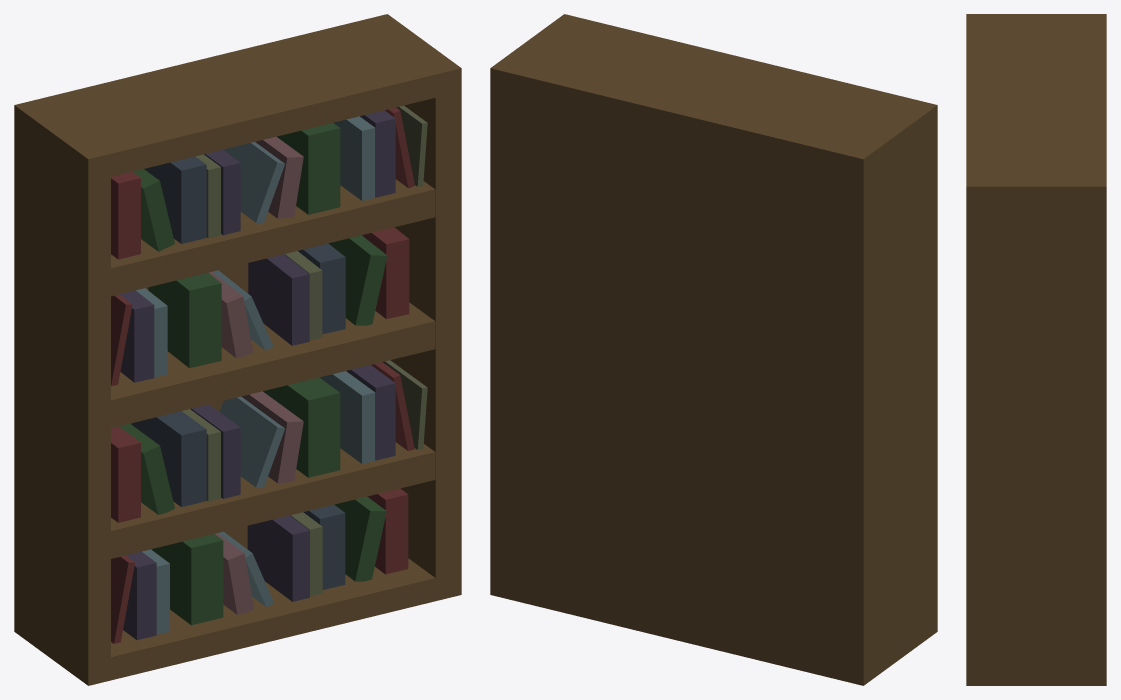
File: bookshelf.fbx
The picture shows the model from 3 angles, left to right: view 1: azimuth 30°, elevation 25°; view 2: azimuth 150°, elevation 25°; view 3: azimuth 270°, elevation 25°; orthographic projection. The views are drawn at different scales.
Parts seen in each view (by area): view 1: bookshelf, Cube_1_5, inside, Cube_5_5, Cube_2_6, Cube_5_3, Cube_5, Cube_5_2, Cube_4_3, Cube_2_2, Cube_4, Cube_5_4 (+39 smaller); view 2: bookshelf; view 3: bookshelf.
Boxes of the visible parts, left/top/right/bottom form: bookshelf: left=14, top=14, right=461, bottom=685; Cube_1_5: left=111, top=302, right=435, bottom=428; inside: left=111, top=98, right=435, bottom=657; Cube_5_5: left=111, top=179, right=435, bottom=296; Cube_2_6: left=111, top=442, right=435, bottom=558; Cube_5_3: left=148, top=273, right=221, bottom=368; Cube_5: left=151, top=534, right=223, bottom=625; Cube_5_2: left=263, top=377, right=340, bottom=477; Cube_4_3: left=248, top=254, right=309, bottom=345; Cube_2_2: left=131, top=411, right=206, bottom=507; Cube_4: left=247, top=515, right=309, bottom=601; Cube_5_4: left=277, top=123, right=340, bottom=214; bookshelf: left=490, top=14, right=937, bottom=685; bookshelf: left=966, top=14, right=1106, bottom=685.
Size of the model in its own units: 420 by 566 by 144.
